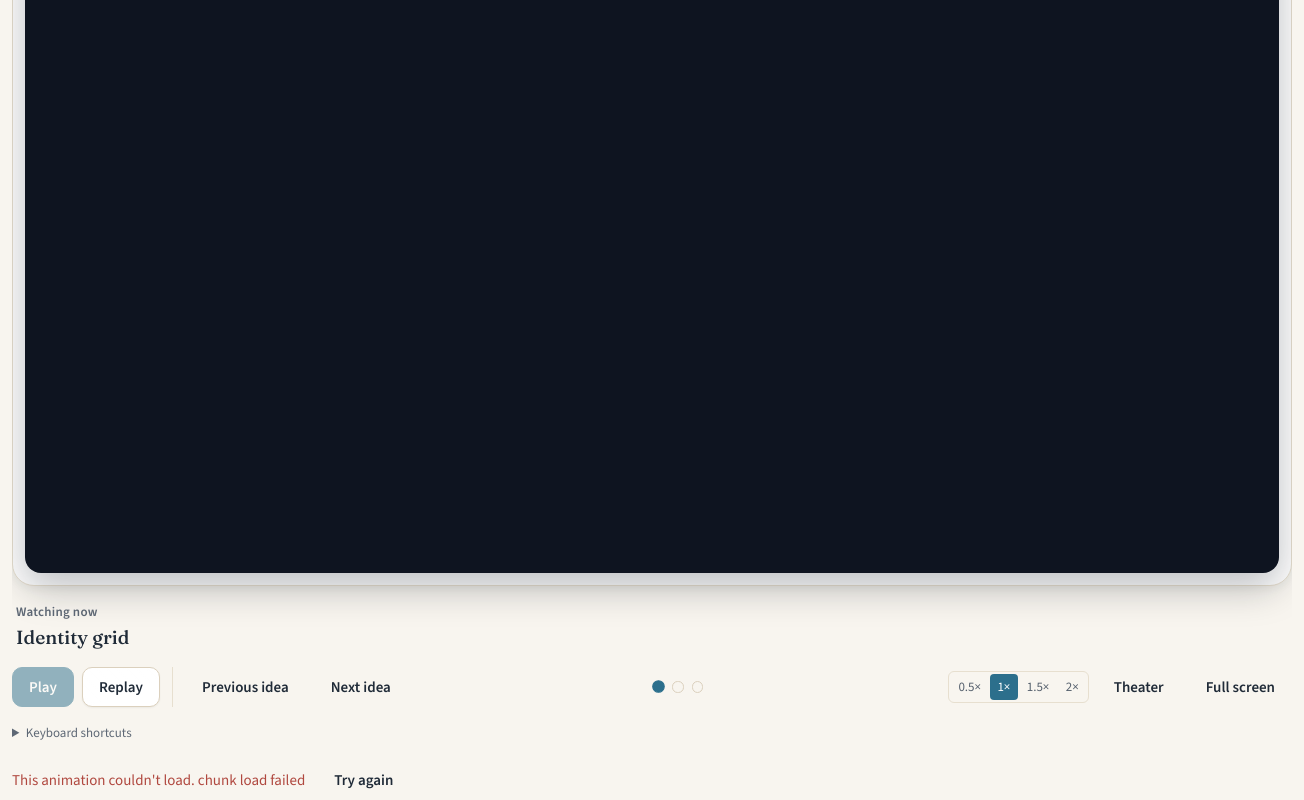
Test: GuidedScenePlayer lifecycle › shows learner-facing error UI with a retry when the engine fails to load (M6)
(page scrolled)
Expected: the message shows "chunk load failed", left=198, top=770, right=305, bottom=790
Click the button "Try again".
click(364, 780)  # box left=317, top=760, right=410, bottom=799
(page scrolled)
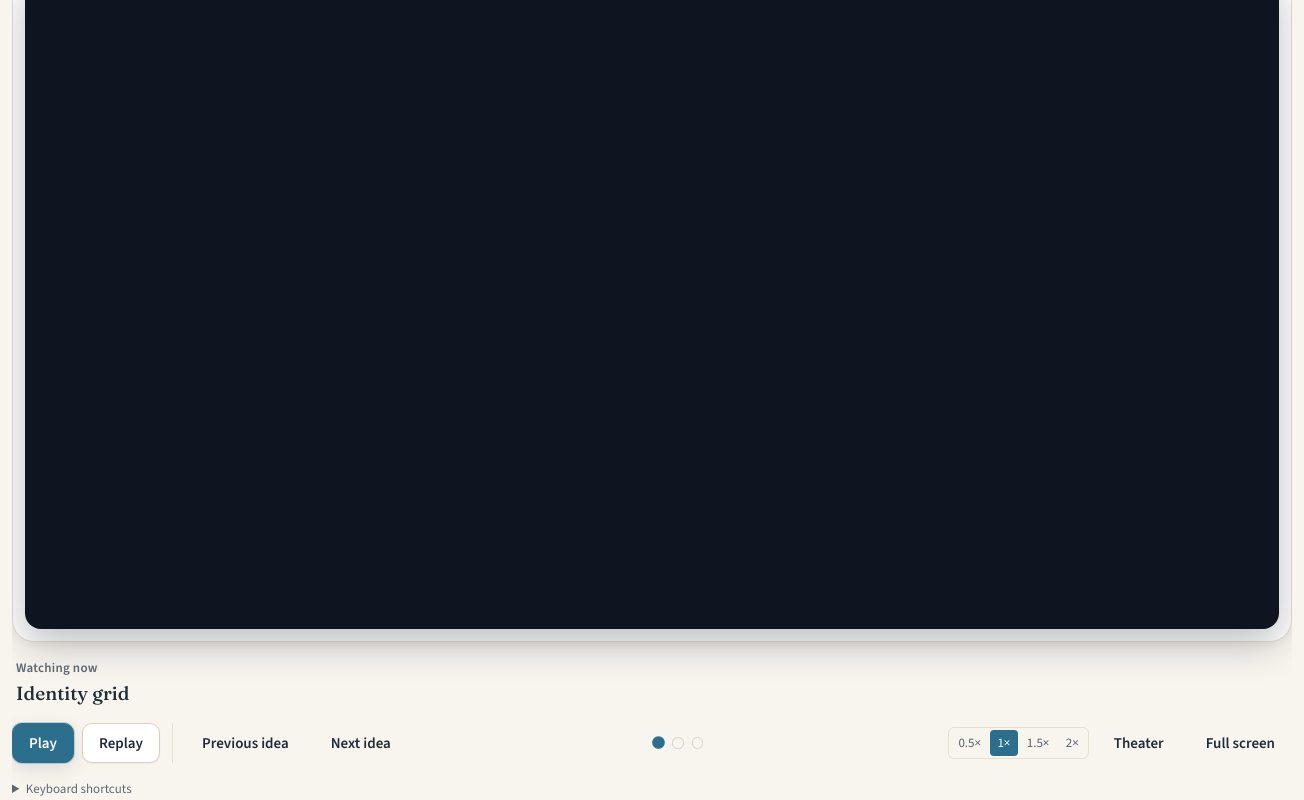
Expected: the message "This animation couldn't load. chunk load failed Try again" is gone
